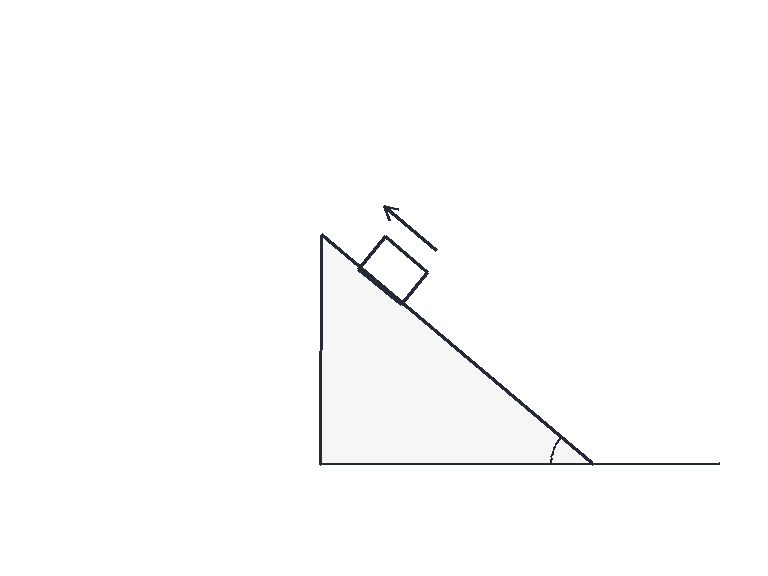block: (357, 235, 429, 306)
ramp: (319, 234, 593, 465)
